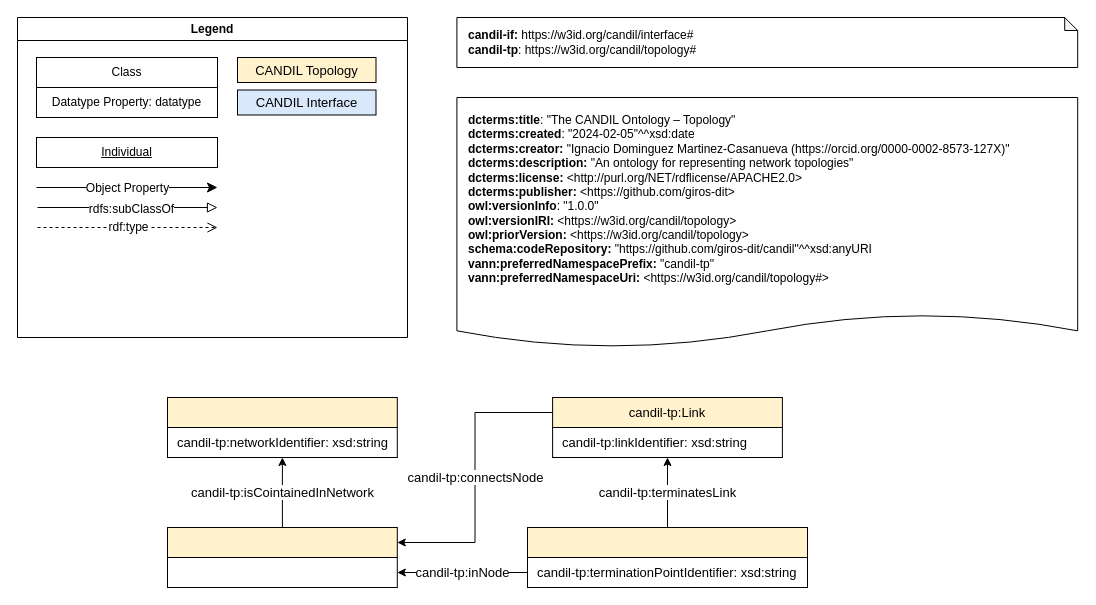
This 1096x605 diagram has some shape labels left out. The centre of each missing label's shape, as x and y in pixels:
"candil-tp:Network" goes at point (281, 412).
"candil-tp:Node" goes at point (281, 542).
"candil-tp:nodeIdentifier: xsd:string" goes at point (281, 572).
"candil-tp:TerminationPoint" goes at point (667, 542).
